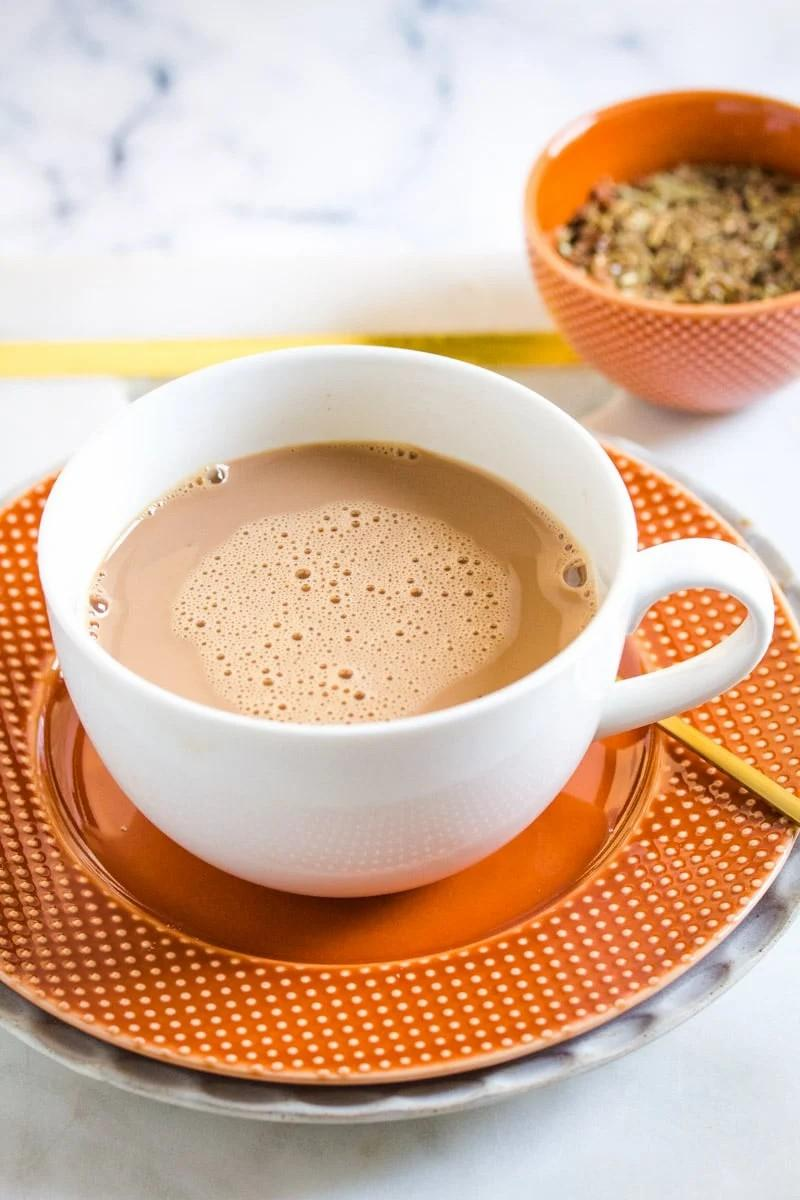Chai: (85, 438, 592, 715)
